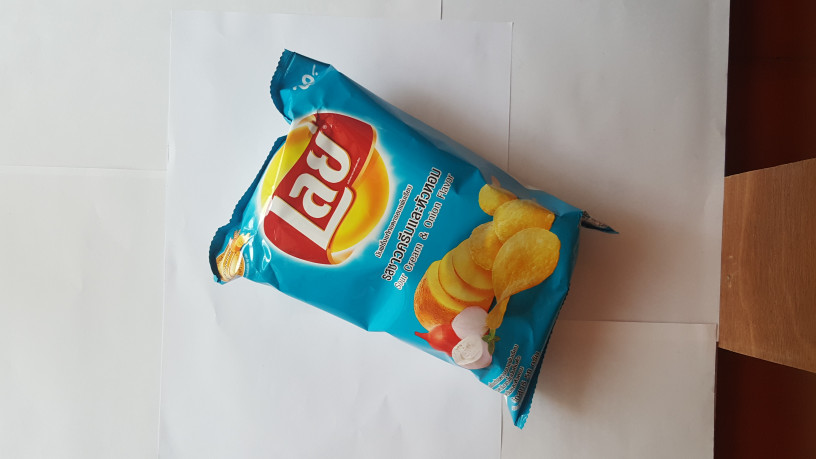lays-onion: (188, 45, 631, 437)
